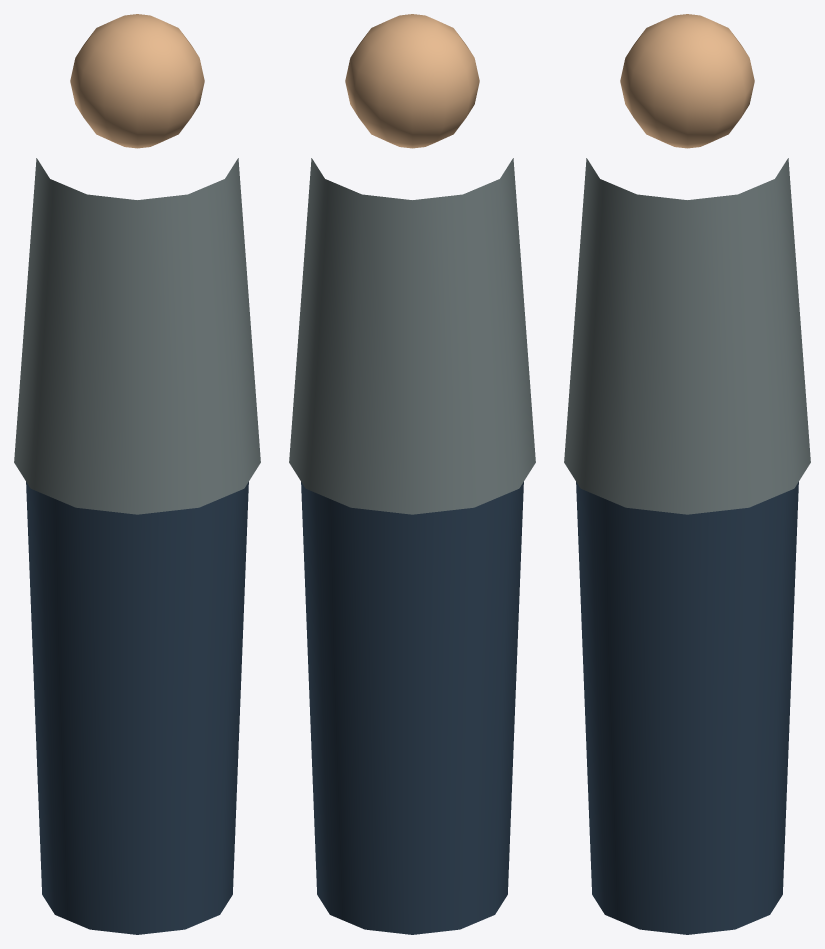
File: person.glb
3 renders of one model, left to right at view 1: azimuth 30°, elevation 25°; view 2: azimuth 150°, elevation 25°; view 3: azimuth 270°, elevation 25°, orthographic.
Bounding box in the file's own units: 0.44 × 1.72 × 0.44.
